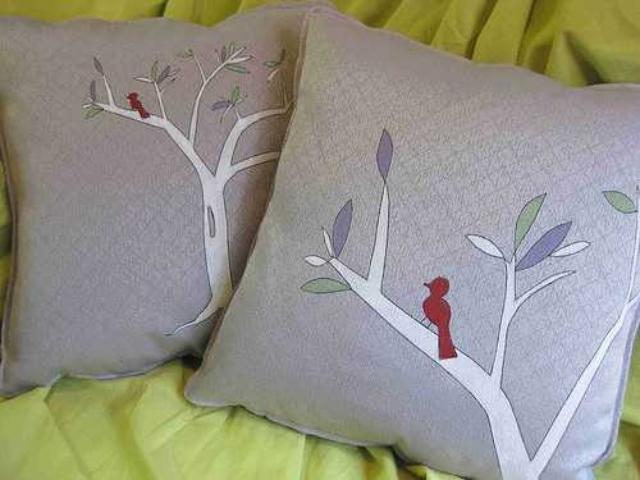pillow: (182, 5, 638, 478), (1, 1, 336, 399)
